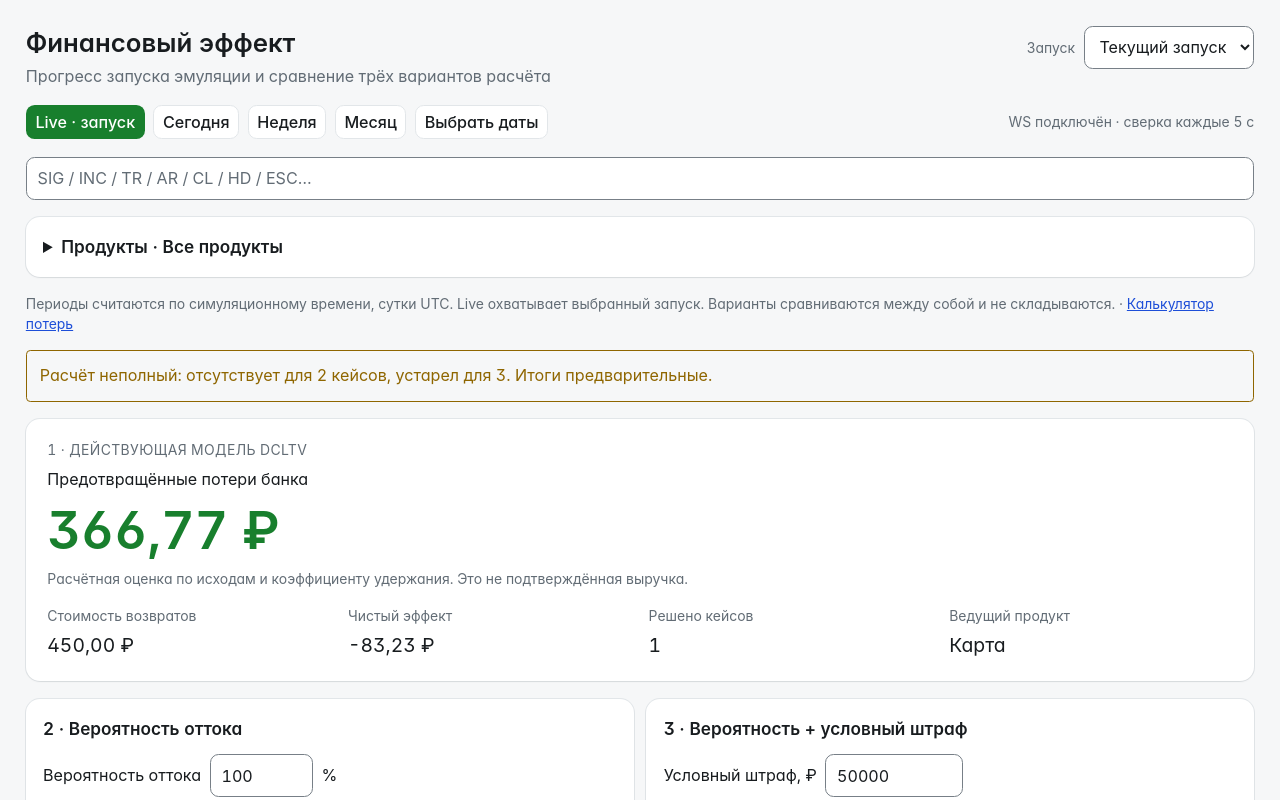
показывает неполноту расчётов и требует корректные пользовательские даты
Expected: the message shows "отсутствует для 2 кейсов, устарел для 3", [40,365,712,385]
Click the button "Выбрать даты".
click(481, 122)  # box [415,105,548,140]
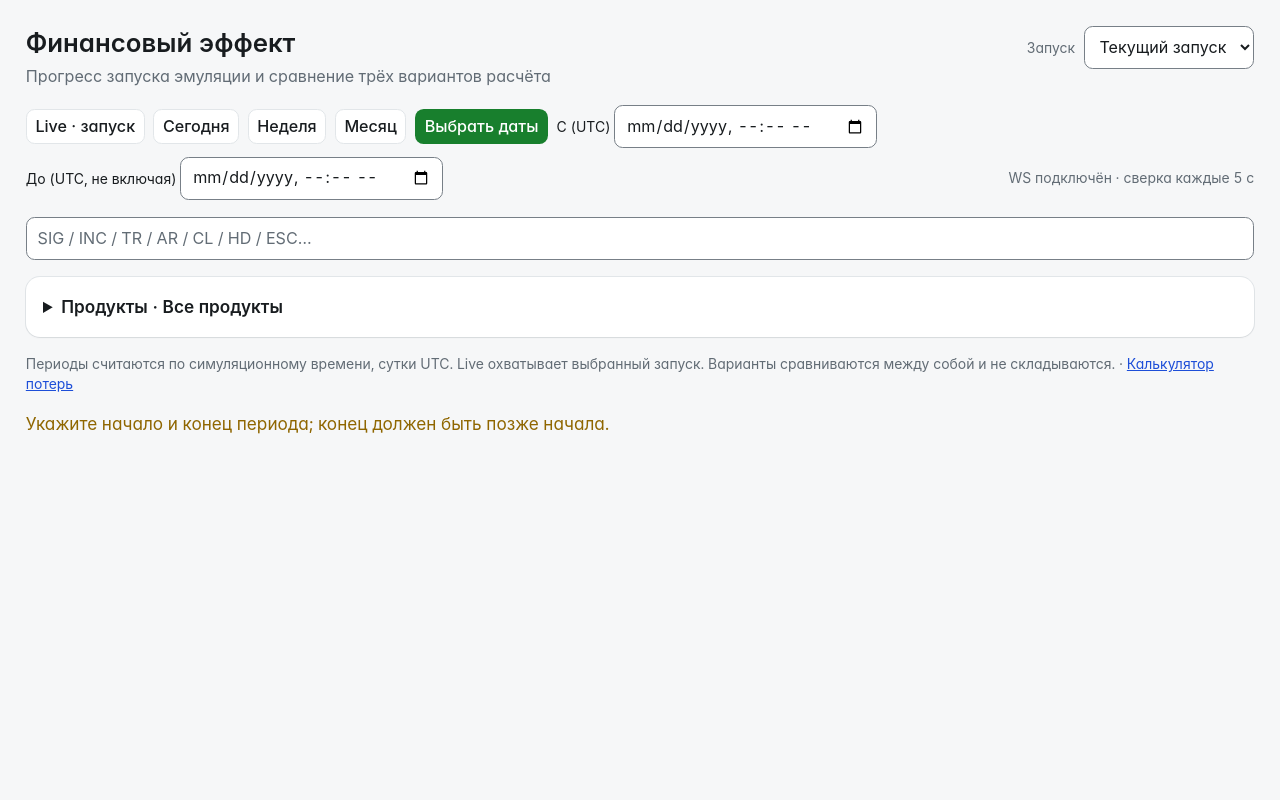
Expected: the message shows "Укажите начало и конец периода", [26,413,610,434]
Expected: the text "1 · Действующая модель dCLTV" is gone
